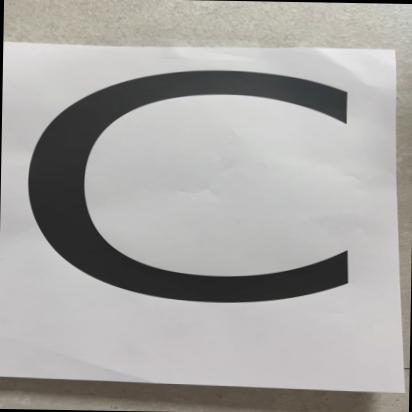seat: (5, 40, 412, 385)
